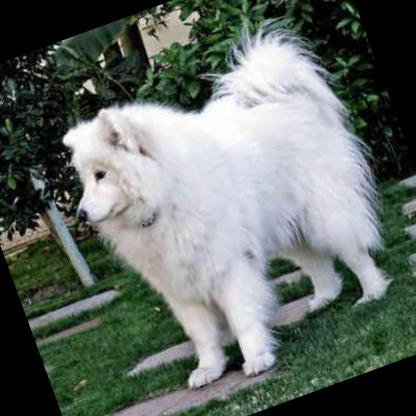Samoyed: (29, 0, 416, 413)
